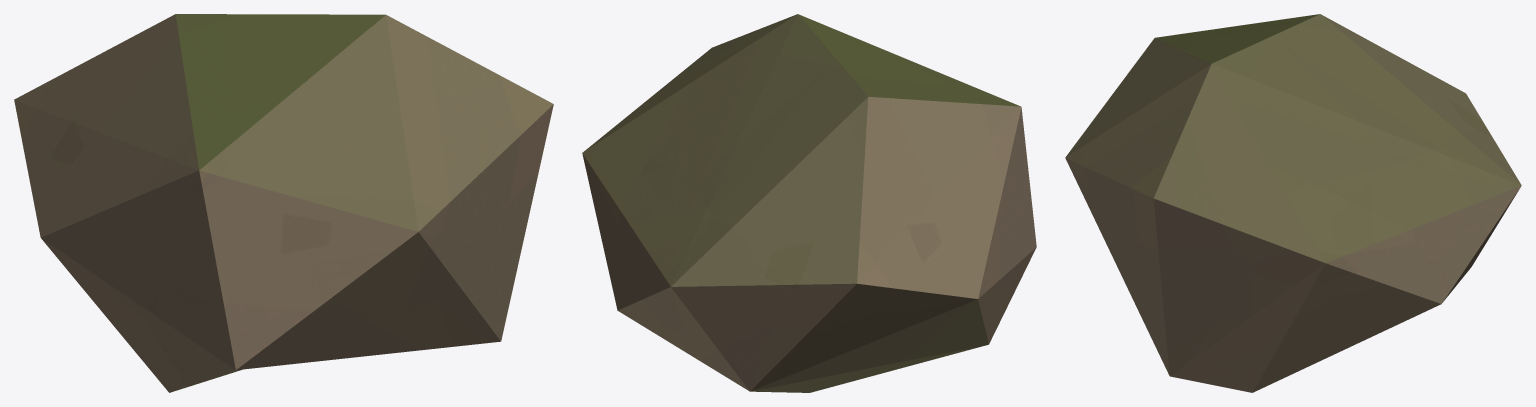
Rendered from SM_Env_Rock_Small_01.glb.
3 views of the same model, side by side, from view 1: azimuth 30°, elevation 25°; view 2: azimuth 150°, elevation 25°; view 3: azimuth 270°, elevation 25° (orthographic). The views are drawn at different scales.
Visible parts, largest first — view 1: SM_Env_Rock_Small_01; view 2: SM_Env_Rock_Small_01; view 3: SM_Env_Rock_Small_01.
Part boxes in pixels (x1,y1,x2,y2): SM_Env_Rock_Small_01: (14, 14, 553, 392); SM_Env_Rock_Small_01: (582, 14, 1036, 392); SM_Env_Rock_Small_01: (1065, 14, 1521, 392).
Bounding box in the file's own units: 0.3275 × 0.258 × 0.3419.
Materials: 1 (1 with a texture image).
